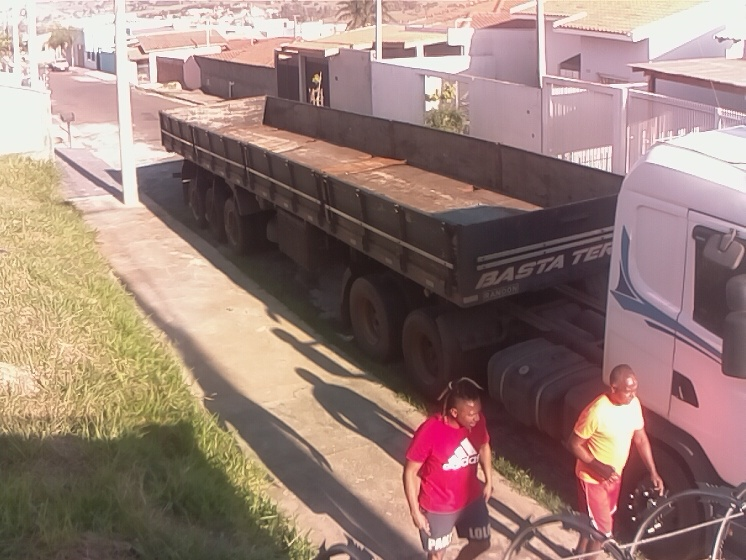person: (565, 363, 669, 560), (399, 379, 493, 560)
